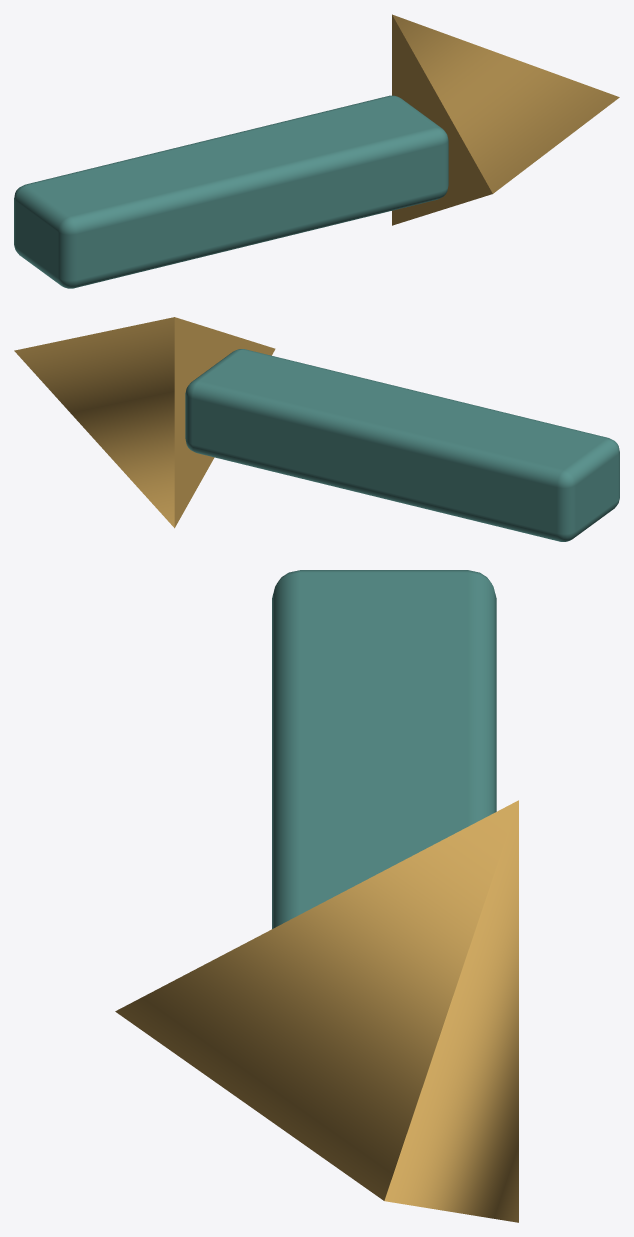
The model's file is arrow.glb.
3 renders of one model, top to bottom at view 1: azimuth 30°, elevation 25°; view 2: azimuth 150°, elevation 25°; view 3: azimuth 270°, elevation 25°, orthographic. The views are drawn at different scales.
Parts seen in each view (by area): view 1: arrow; view 2: arrow; view 3: arrow.
Part boxes in pixels (<box>): arrow: <box>14,14,619,288</box>; arrow: <box>14,317,619,541</box>; arrow: <box>115,570,518,1222</box>.
Size of the model in its own units: 1.2 by 0.4157 by 0.36.
